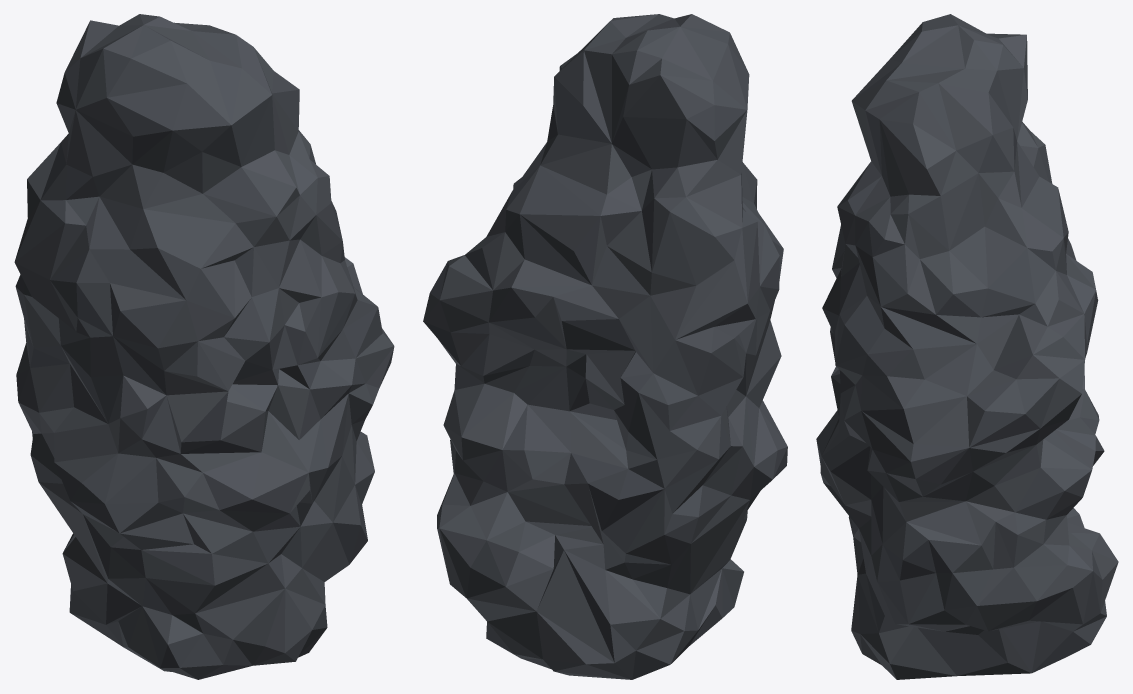
Rendered from Rock_Big_3.fbx.
3 renders of one model, left to right at view 1: azimuth 30°, elevation 25°; view 2: azimuth 150°, elevation 25°; view 3: azimuth 270°, elevation 25°, orthographic. The views are drawn at different scales.
Parts seen in each view (by area): view 1: Group22127; view 2: Group22127; view 3: Group22127.
Boxes of the visible parts, box(x1,y1,x2,y2) form: Group22127: box(14, 14, 394, 679); Group22127: box(423, 14, 787, 679); Group22127: box(816, 14, 1118, 679).
Bounding box in the file's own units: 1039 × 1943 × 889.
